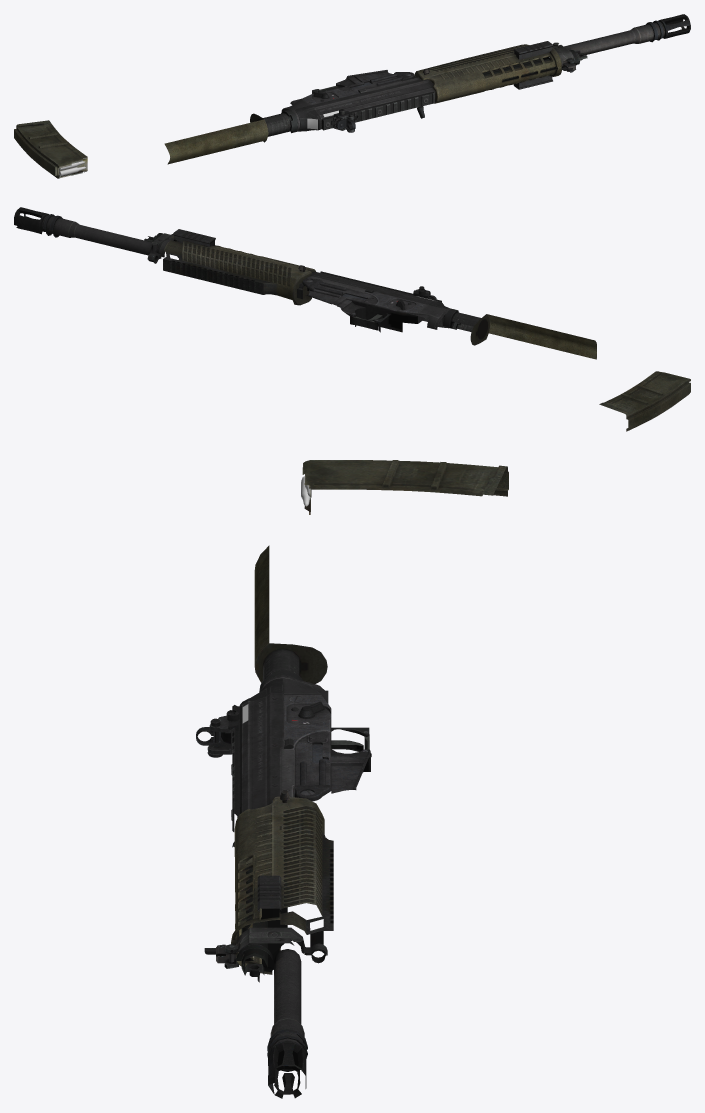
File: t6_wpn_ar_sig556_view_LOD0.obj
3 views of the same model, one above another, from view 1: azimuth 30°, elevation 25°; view 2: azimuth 150°, elevation 25°; view 3: azimuth 270°, elevation 25° (orthographic). The views are drawn at different scales.
Visible parts, largest first — view 1: mtl_t6_wpn_ar_sig556_camo1, mtl_t6_wpn_ar_sig556_camo3, mtl_t6_wpn_ar_sig556_camo2, mtl_t6_wpn_ar_sig556_camo4; view 2: mtl_t6_wpn_ar_sig556_camo1, mtl_t6_wpn_ar_sig556_camo3, mtl_t6_wpn_ar_sig556_camo2; view 3: mtl_t6_wpn_ar_sig556_camo1, mtl_t6_wpn_ar_sig556_camo3, mtl_t6_wpn_ar_sig556_camo2, mtl_t6_wpn_ar_sig556_camo4.
Part boxes in pixels (box(x1,y1,x2,y2)): mtl_t6_wpn_ar_sig556_camo1: box(16, 20, 664, 178); mtl_t6_wpn_ar_sig556_camo3: box(14, 14, 690, 175); mtl_t6_wpn_ar_sig556_camo2: box(295, 79, 435, 131); mtl_t6_wpn_ar_sig556_camo4: box(314, 79, 432, 115); mtl_t6_wpn_ar_sig556_camo1: box(42, 214, 690, 431); mtl_t6_wpn_ar_sig556_camo3: box(14, 207, 690, 429); mtl_t6_wpn_ar_sig556_camo2: box(310, 272, 449, 328); mtl_t6_wpn_ar_sig556_camo1: box(196, 460, 507, 1071); mtl_t6_wpn_ar_sig556_camo3: box(210, 460, 508, 1098); mtl_t6_wpn_ar_sig556_camo2: box(239, 678, 294, 813); mtl_t6_wpn_ar_sig556_camo4: box(248, 693, 270, 809).
Size of the model in its own units: 137 by 7.85 by 29.64.
